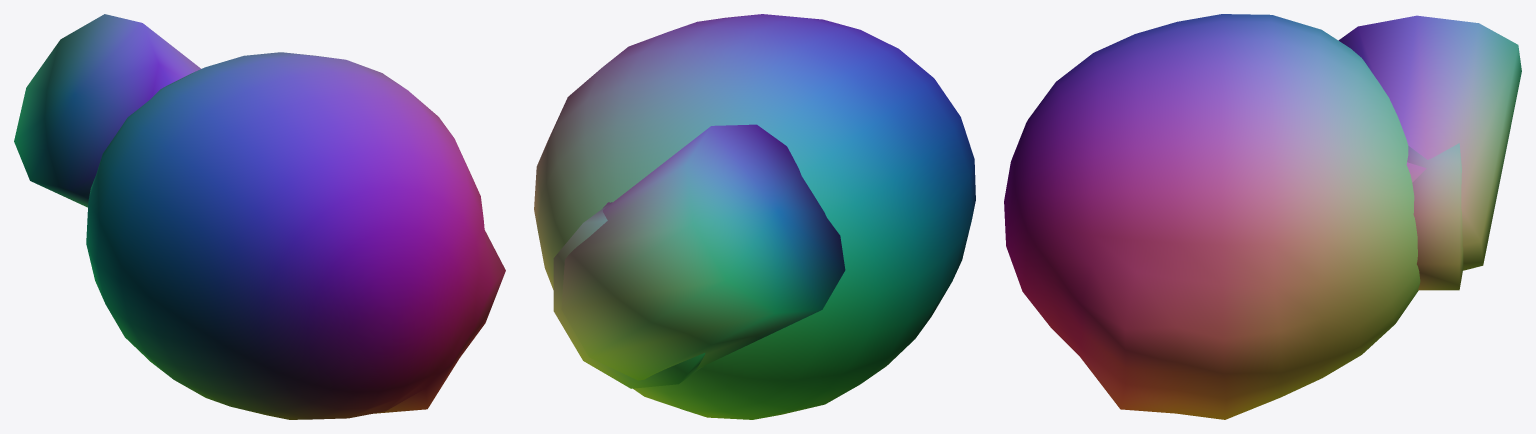
Rendered from SM_Mon_Goblin_Att_LootSack.fbx.
3 views of the same model, side by side, from view 1: azimuth 30°, elevation 25°; view 2: azimuth 150°, elevation 25°; view 3: azimuth 270°, elevation 25° (orthographic). The views are drawn at different scales.
Parts seen in each view (by area): view 1: SM_Mon_Goblin_Att_LootSack; view 2: SM_Mon_Goblin_Att_LootSack; view 3: SM_Mon_Goblin_Att_LootSack.
Boxes of the visible parts, x1,y1,x2,y2 form: SM_Mon_Goblin_Att_LootSack: [14, 14, 505, 419]; SM_Mon_Goblin_Att_LootSack: [534, 14, 975, 419]; SM_Mon_Goblin_Att_LootSack: [1004, 14, 1521, 419].
Bounding box in the file's own units: 0.1561 × 0.1395 × 0.1953.
